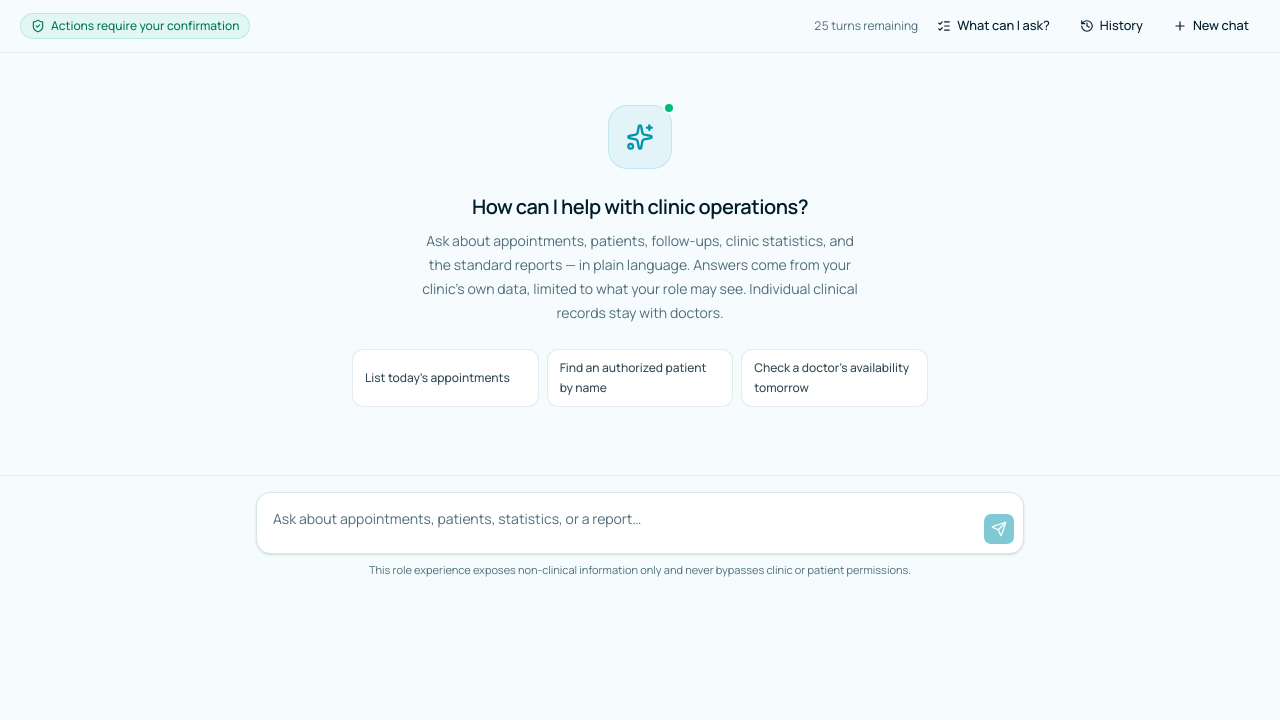
Test: P7-01 · the chat's own call site passes the write surface through › renders the resolved actions when the panel is opened from the toggle
Click the button "What can I ask?".
click(994, 26)  # box [926,12,1061,40]
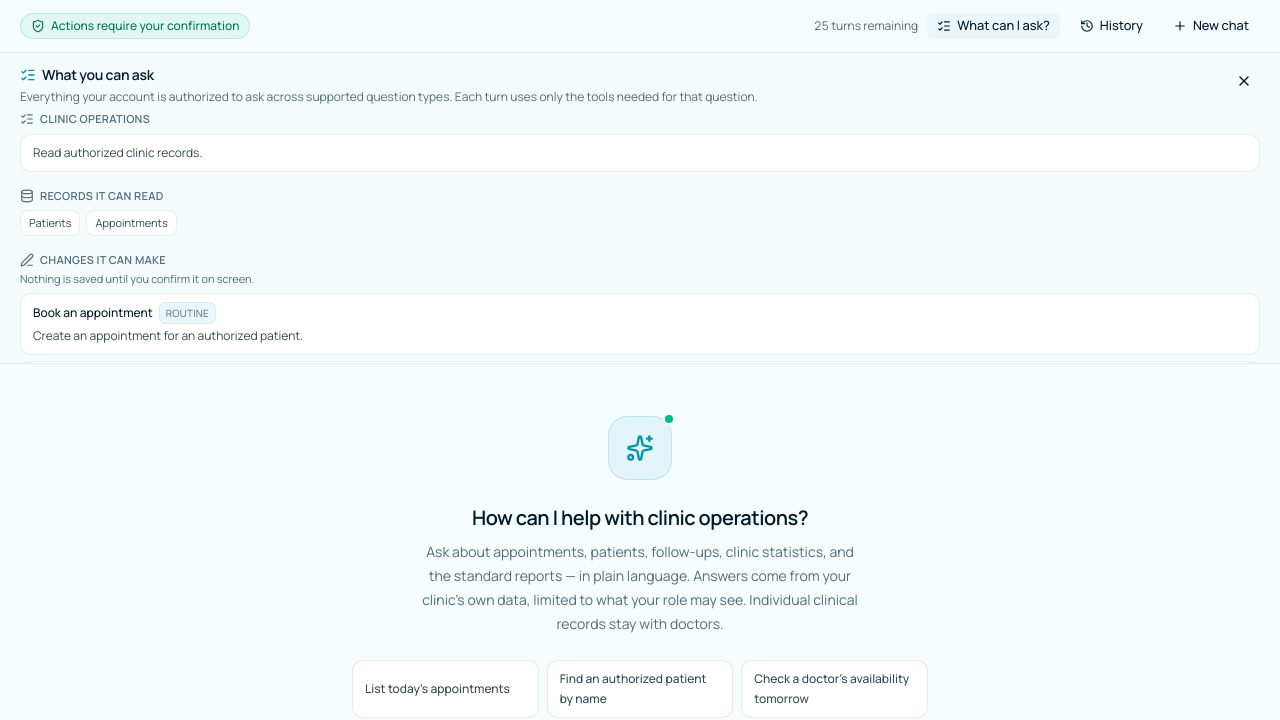
Expected: the heading "Changes it can make" is shown, [20,252,166,267]
Expected: the heading "Records it can read" is shown, [20,188,164,203]
Expected: the list item "Patients" is shown, [20,210,80,236]
